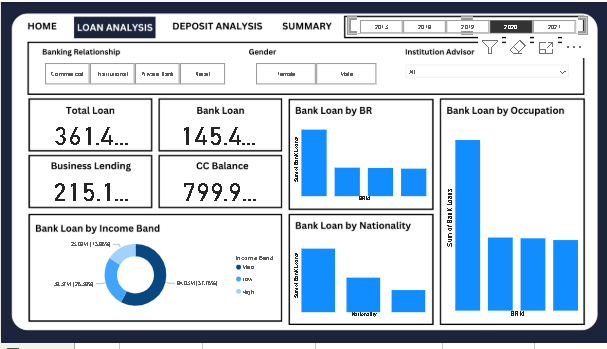

The dashboard page shown, as its layout file describes it:
{"tool":"powerbi","page":{"name":"Loan Analysis","canvas":[1280,720],"ordinal":2},"visuals":[{"type":"slicer","fields":{"Values":["banking_case customer.Year of Joining"]},"box":[733.3,32.2,504.1,34.9],"z":0},{"type":"actionButton","box":[36.4,31.7,99.7,39.6],"z":1000},{"type":"actionButton","box":[348.2,31.7,221.6,39.6],"z":2000},{"type":"actionButton","box":[587.1,31.7,123.4,39.6],"z":3000},{"type":"card","fields":{"Values":["banking_case customer.Total Loan"]},"box":[100.9,243.7,179.5,65.5],"z":4000},{"type":"card","fields":{"Values":["Sum(banking_case customer.Bank Loans)"]},"box":[369.5,243.7,179.5,65.5],"z":5000},{"type":"card","fields":{"Values":["Sum(banking_case customer.Business Lending)"]},"box":[100.9,360.4,179.5,65.5],"z":6000},{"type":"card","fields":{"Values":["Sum(banking_case customer.Credit Card Balance)"]},"box":[370.8,360.4,179.5,65.5],"z":7000},{"type":"donutChart","fields":{"Category":["banking_case customer.Income Band"],"Y":["Sum(banking_case customer.Bank Loans)"]},"box":[66.8,488.8,530.7,176.9],"z":8000},{"type":"clusteredColumnChart","fields":{"Category":["banking_case customer.BRId"],"Y":["Sum(banking_case customer.Bank Loans)"]},"box":[613.3,243.7,293.5,182.1],"z":9000},{"type":"clusteredColumnChart","fields":{"Category":["banking_case customer.Nationality"],"Y":["Sum(banking_case customer.Bank Loans)"]},"box":[613.3,488.8,293.5,182.1],"z":10000},{"type":"clusteredColumnChart","fields":{"Category":["banking_case customer.BRId"],"Y":["Sum(banking_case customer.Bank Loans)"]},"box":[933.7,245.3,292.8,425.7],"z":11000},{"type":"slicer","fields":{"Values":["banking_case customer.BRId"]},"box":[66.8,123.2,428.5,57.7],"z":12000},{"type":"slicer","fields":{"Values":["banking_case customer.GenderId"]},"box":[512.4,123.2,302.7,57.7],"z":13000},{"type":"slicer","fields":{"Values":["banking_case customer.IAId"]},"box":[843.9,123.2,364.3,57.7],"z":14000}]}

Visuals, with their boxes on the page's 1280x720 design canvas (x1, y1, x2, y2). These are canvas units, not pixel positions in the 607x349 screenshot, which may show the page scaled, cropped or inside an application window:
slicer - banking_case customer.Year of Joining: (733, 32, 1237, 67)
actionButton: (36, 32, 136, 71)
actionButton: (348, 32, 570, 71)
actionButton: (587, 32, 710, 71)
card - banking_case customer.Total Loan: (101, 244, 280, 309)
card - Sum(banking_case customer.Bank Loans): (370, 244, 549, 309)
card - Sum(banking_case customer.Business Lending): (101, 360, 280, 426)
card - Sum(banking_case customer.Credit Card Balance): (371, 360, 550, 426)
donutChart - banking_case customer.Income Band x Sum(banking_case customer.Bank Loans): (67, 489, 598, 666)
clusteredColumnChart - banking_case customer.BRId x Sum(banking_case customer.Bank Loans): (613, 244, 907, 426)
clusteredColumnChart - banking_case customer.Nationality x Sum(banking_case customer.Bank Loans): (613, 489, 907, 671)
clusteredColumnChart - banking_case customer.BRId x Sum(banking_case customer.Bank Loans): (934, 245, 1226, 671)
slicer - banking_case customer.BRId: (67, 123, 495, 181)
slicer - banking_case customer.GenderId: (512, 123, 815, 181)
slicer - banking_case customer.IAId: (844, 123, 1208, 181)
